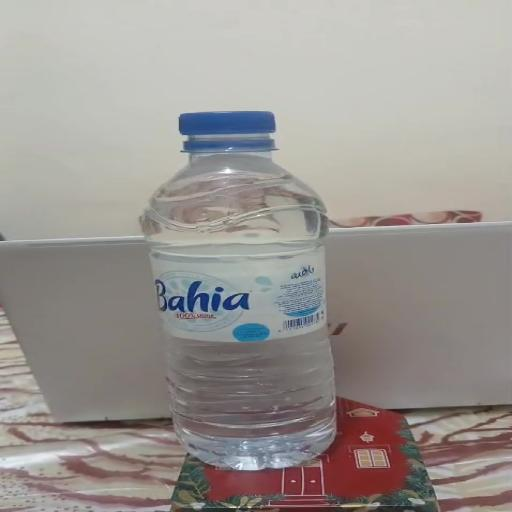bouteille non conformite: (148, 98, 357, 471), (155, 109, 308, 162)
